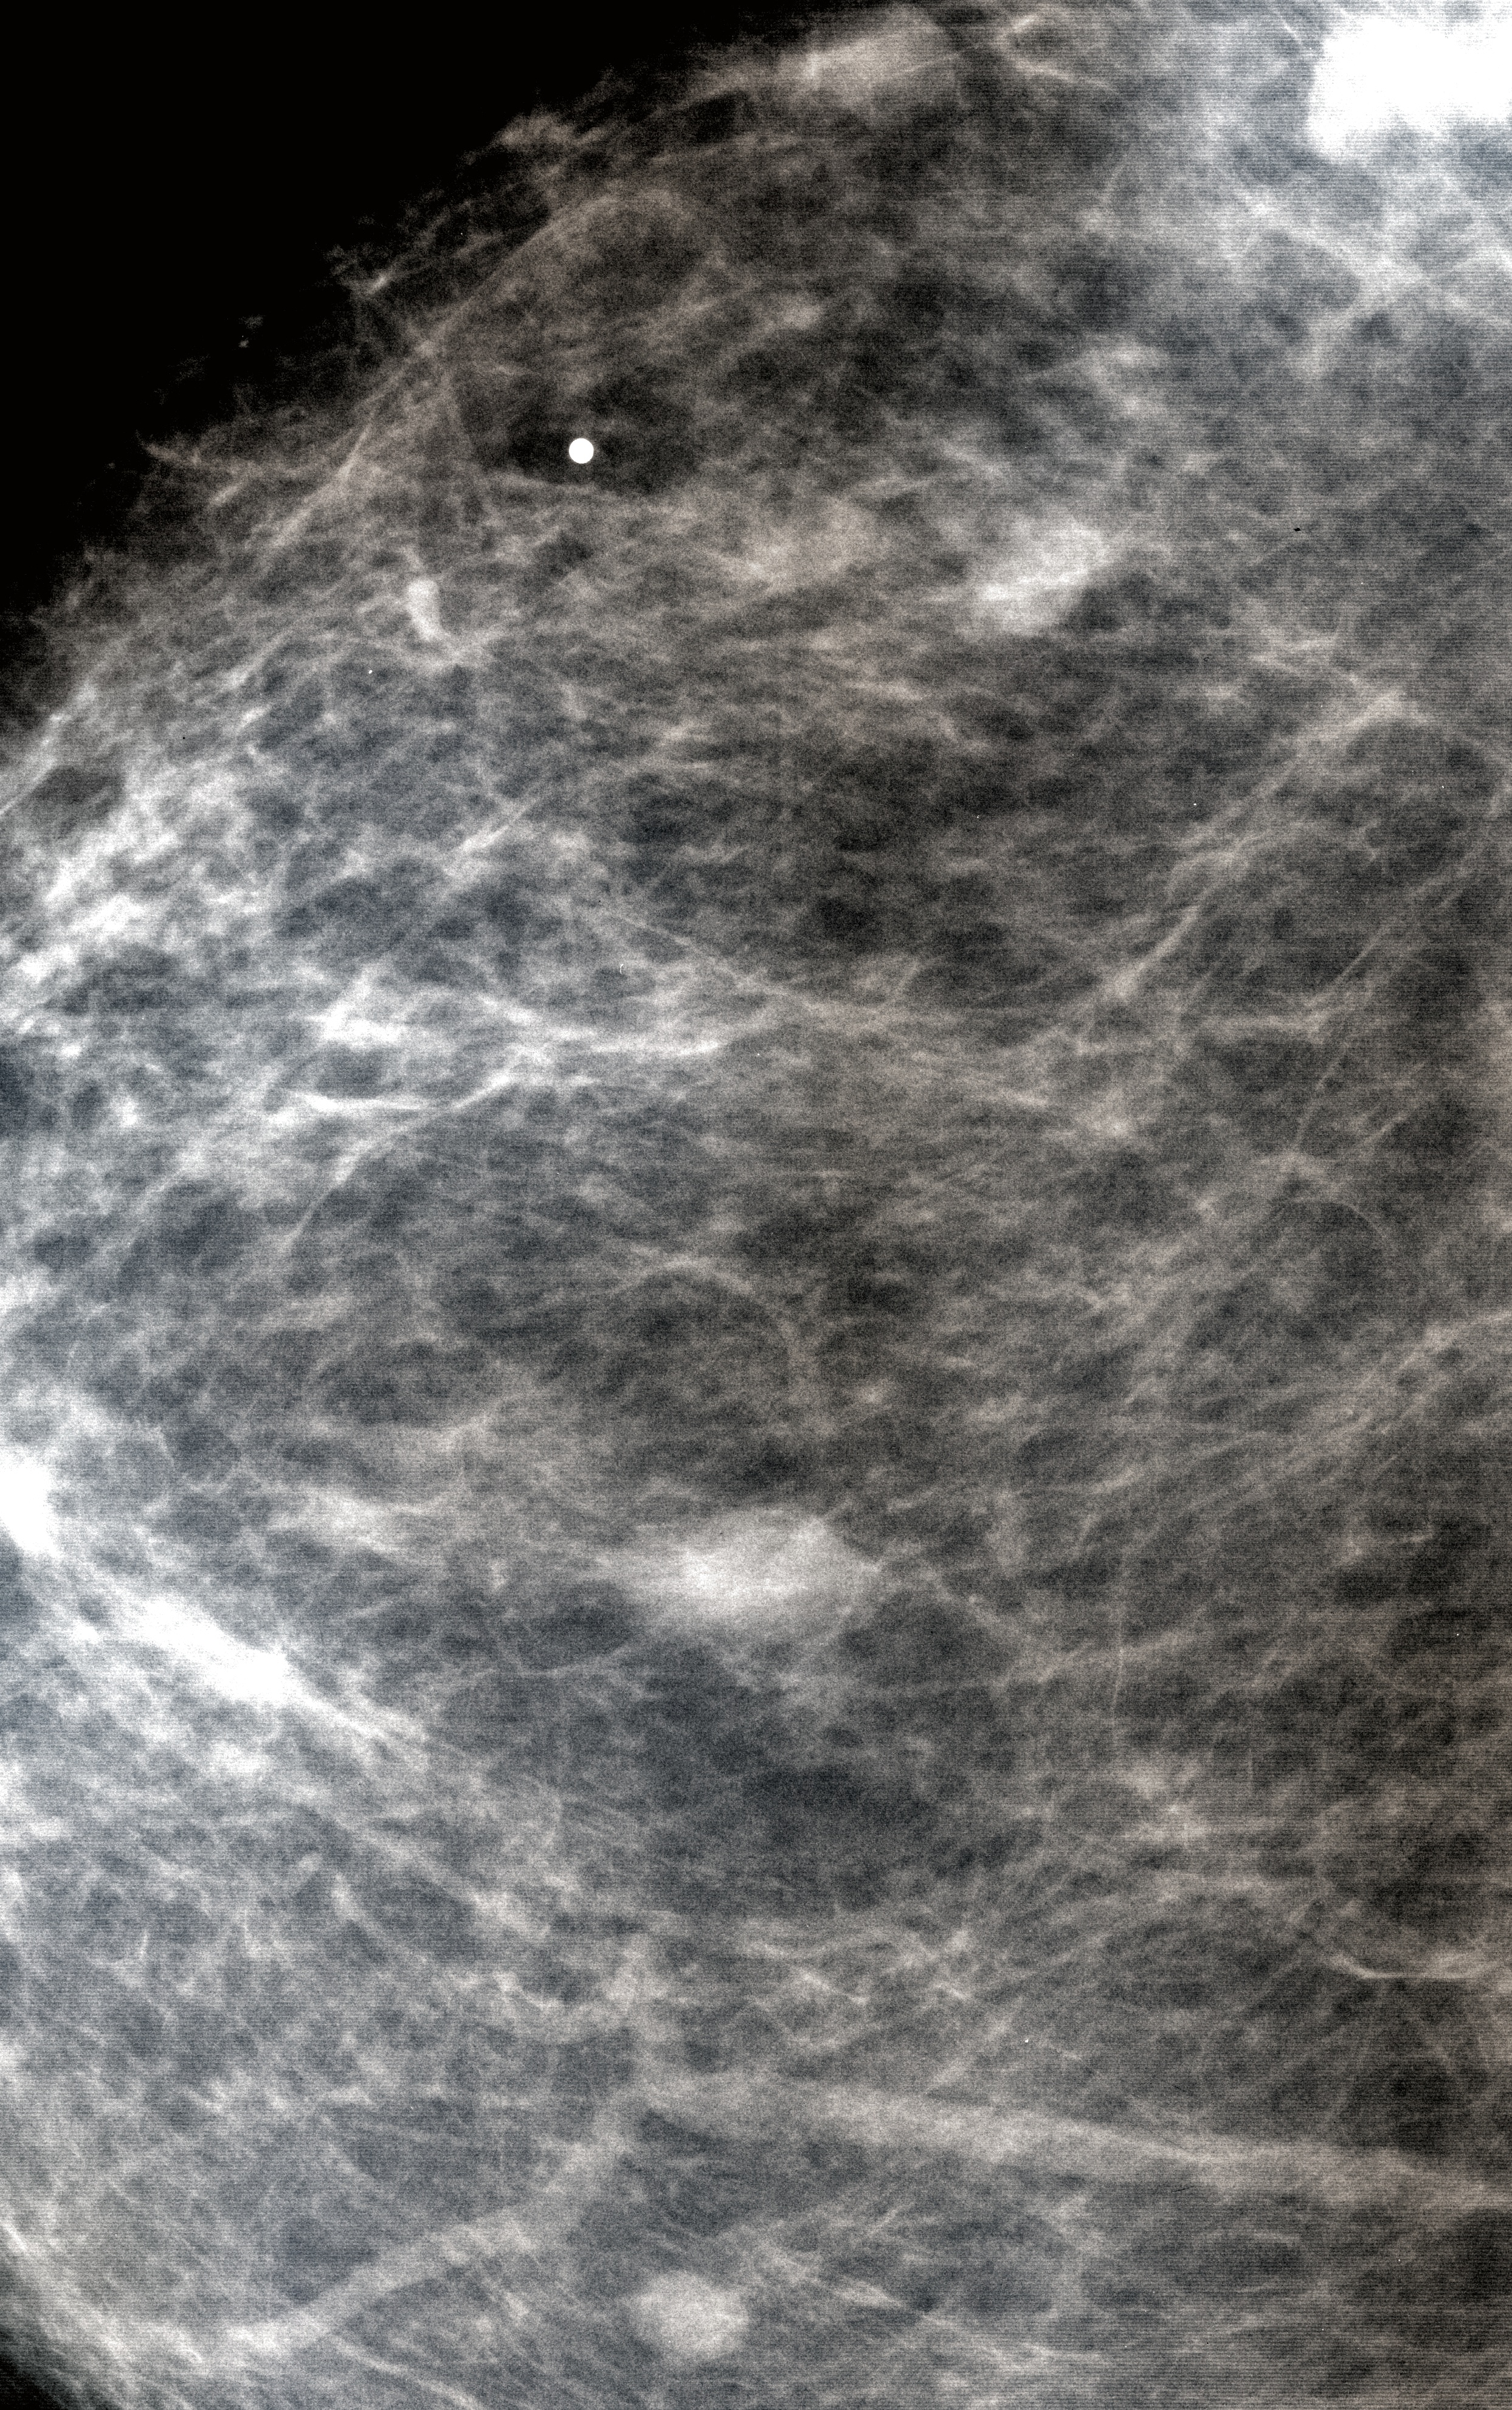tumor: (1322, 0, 1512, 148), (772, 0, 955, 129), (946, 511, 1117, 647), (618, 2257, 768, 2410), (0, 368, 127, 497)
